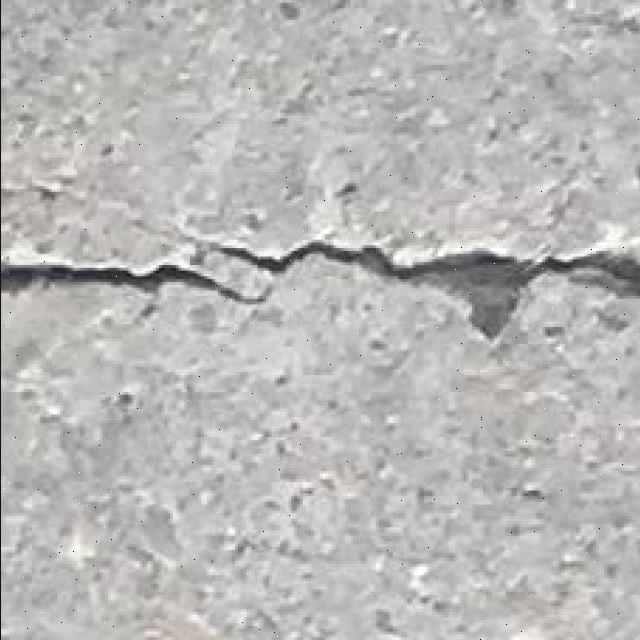crack: (1, 237, 639, 340), (221, 236, 630, 282), (8, 255, 272, 307), (247, 238, 391, 273), (204, 241, 304, 271)
